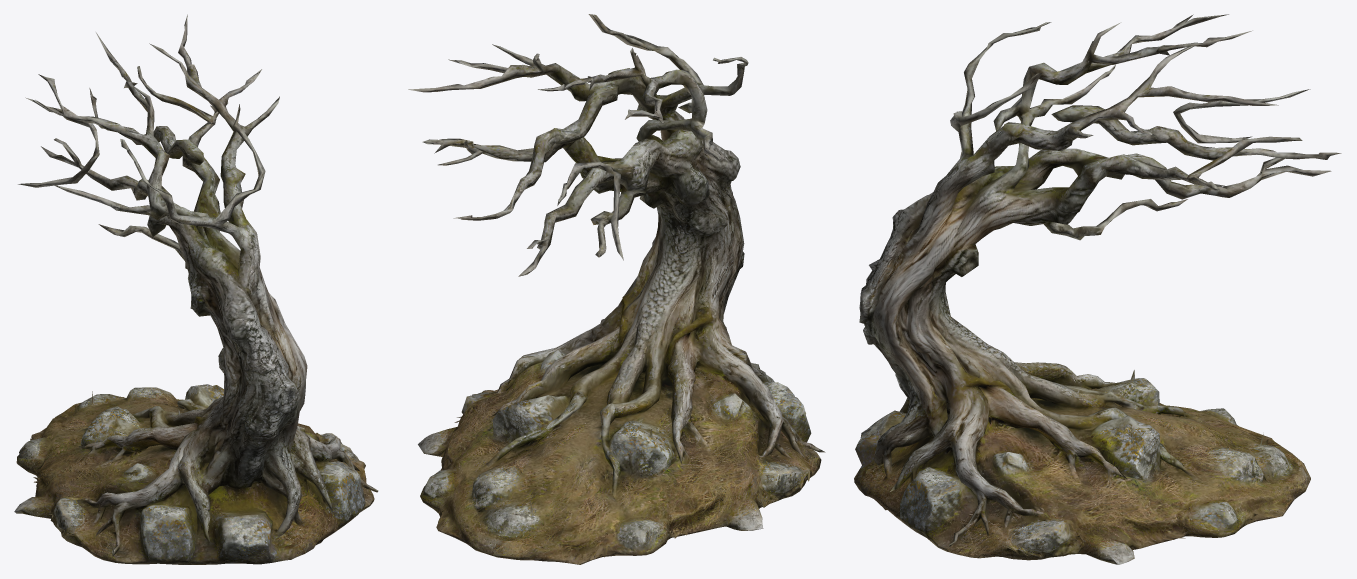
Rendered from env_road_dead_tree.glb.
3 views of the same model, side by side, from view 1: azimuth 30°, elevation 25°; view 2: azimuth 150°, elevation 25°; view 3: azimuth 270°, elevation 25° (orthographic). The views are drawn at different scales.
Parts seen in each view (by area): view 1: tripo_node_dfb5d15f-7926-4add-b1c8-aa051300d39d; view 2: tripo_node_dfb5d15f-7926-4add-b1c8-aa051300d39d; view 3: tripo_node_dfb5d15f-7926-4add-b1c8-aa051300d39d.
Boxes of the visible parts, <box> form: tripo_node_dfb5d15f-7926-4add-b1c8-aa051300d39d: <box>14,14,378,564</box>; tripo_node_dfb5d15f-7926-4add-b1c8-aa051300d39d: <box>408,14,825,564</box>; tripo_node_dfb5d15f-7926-4add-b1c8-aa051300d39d: <box>854,14,1341,564</box>.
Bounding box in the file's own units: 0.7966 × 1 × 0.9886.
1 material, 1 textured.
